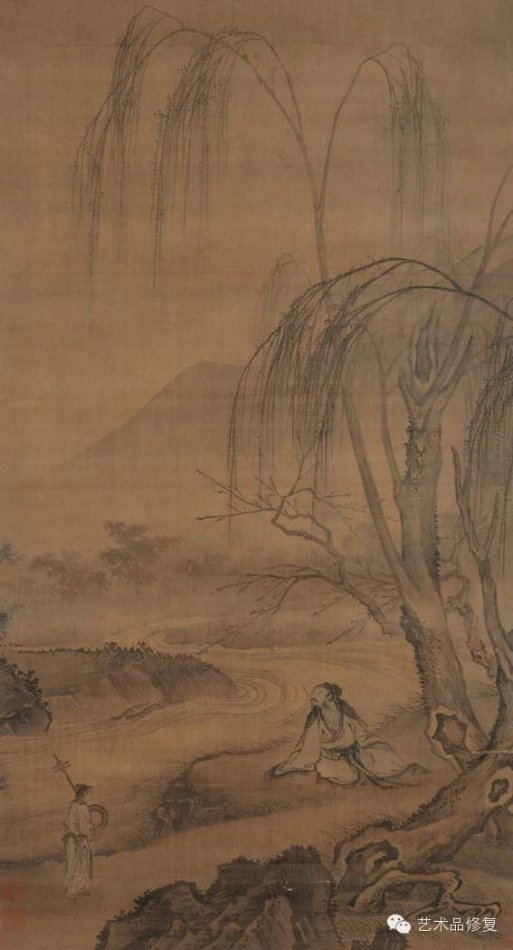creek: (88, 609, 270, 830)
hill: (48, 328, 351, 468)
man: (279, 682, 433, 792), (55, 781, 108, 899)
tree: (88, 513, 187, 585)
willow: (78, 1, 504, 902)
